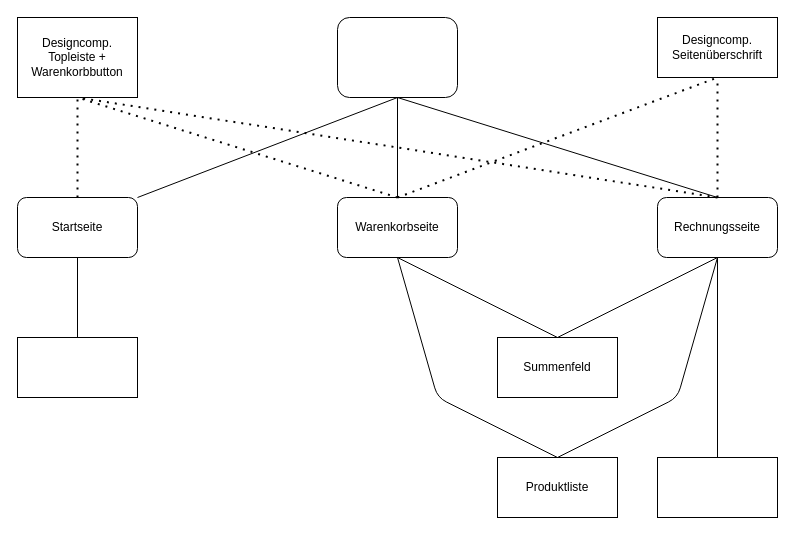
The diagram is 795 pixels wide and 535 high, and some of its shapes have lost their labels. The shapes that lost their labels are listed below. From the top down, each one's centre as x and y in pixels, then its label:
point 397,57: Main Component
point 77,367: Produktkarten
point 717,487: Adressbox
